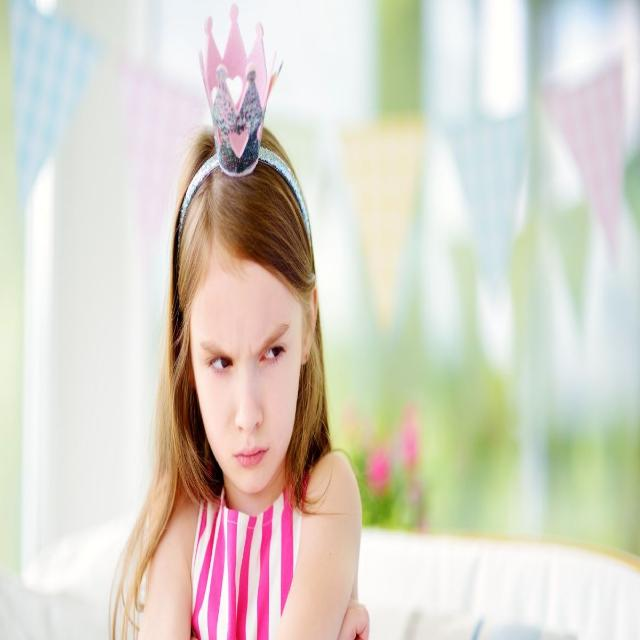child: (131, 125, 370, 640)
